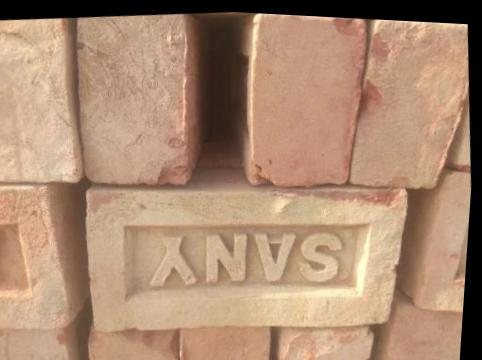brick: (75, 163, 418, 348), (234, 13, 383, 193), (335, 18, 481, 197), (67, 9, 196, 193), (0, 14, 86, 190), (0, 176, 80, 337), (412, 171, 472, 318), (376, 302, 463, 360), (278, 318, 377, 360), (175, 321, 274, 360), (86, 326, 177, 360), (0, 327, 75, 360)
